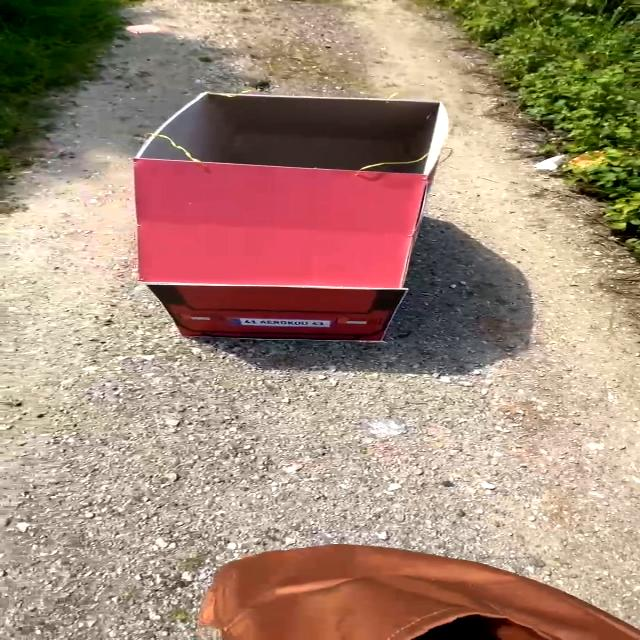red_car: (88, 56, 510, 361)
